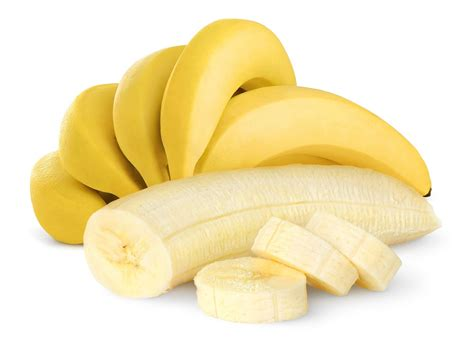banana: (179, 81, 440, 201), (161, 10, 299, 183)
